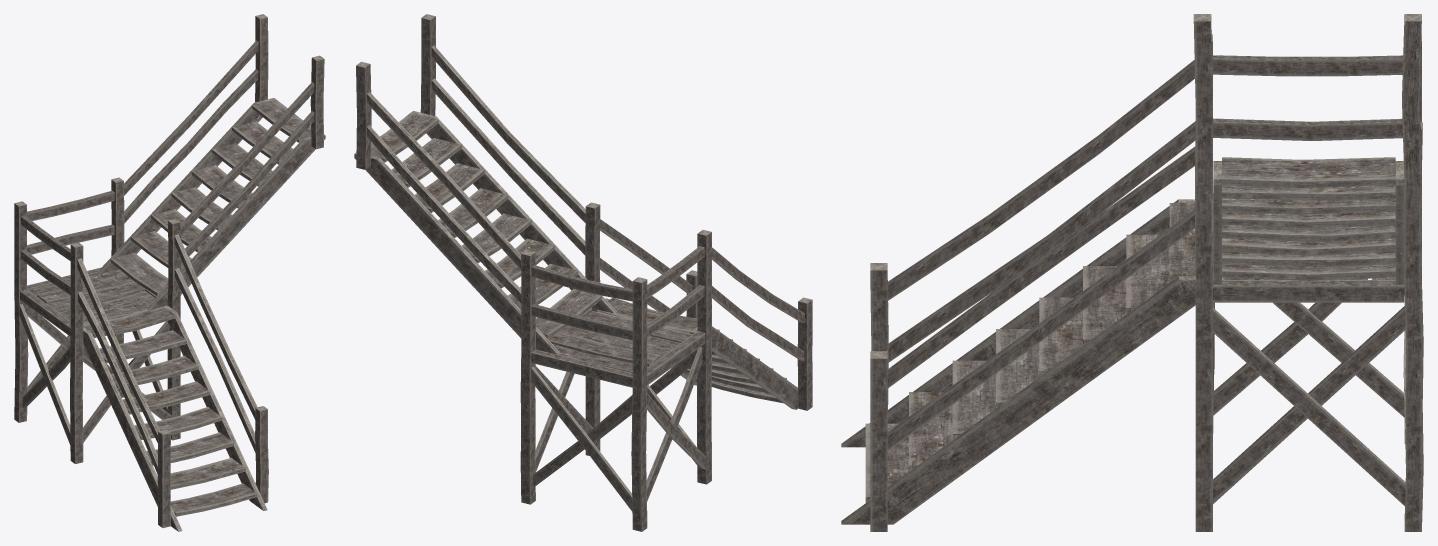
Rendered from SM_Stairs.FBX.
The picture shows the model from 3 angles, left to right: view 1: azimuth 30°, elevation 25°; view 2: azimuth 150°, elevation 25°; view 3: azimuth 270°, elevation 25°; orthographic projection. The views are drawn at different scales.
Parts seen in each view (by area): view 1: SM_Stairs; view 2: SM_Stairs; view 3: SM_Stairs.
Boxes of the visible parts, x1,y1,x2,y2 form: SM_Stairs: (14, 14, 325, 531); SM_Stairs: (354, 14, 812, 531); SM_Stairs: (841, 14, 1423, 531).
Bounding box in the file's own units: 315 × 407 × 335.
